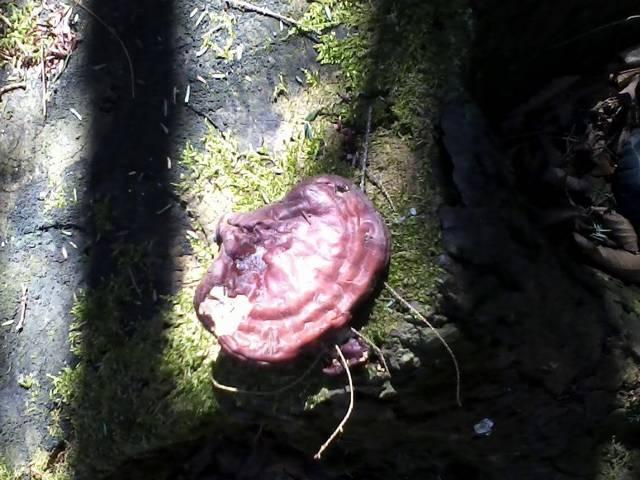Non-edible Mushroom: (192, 172, 391, 369)
